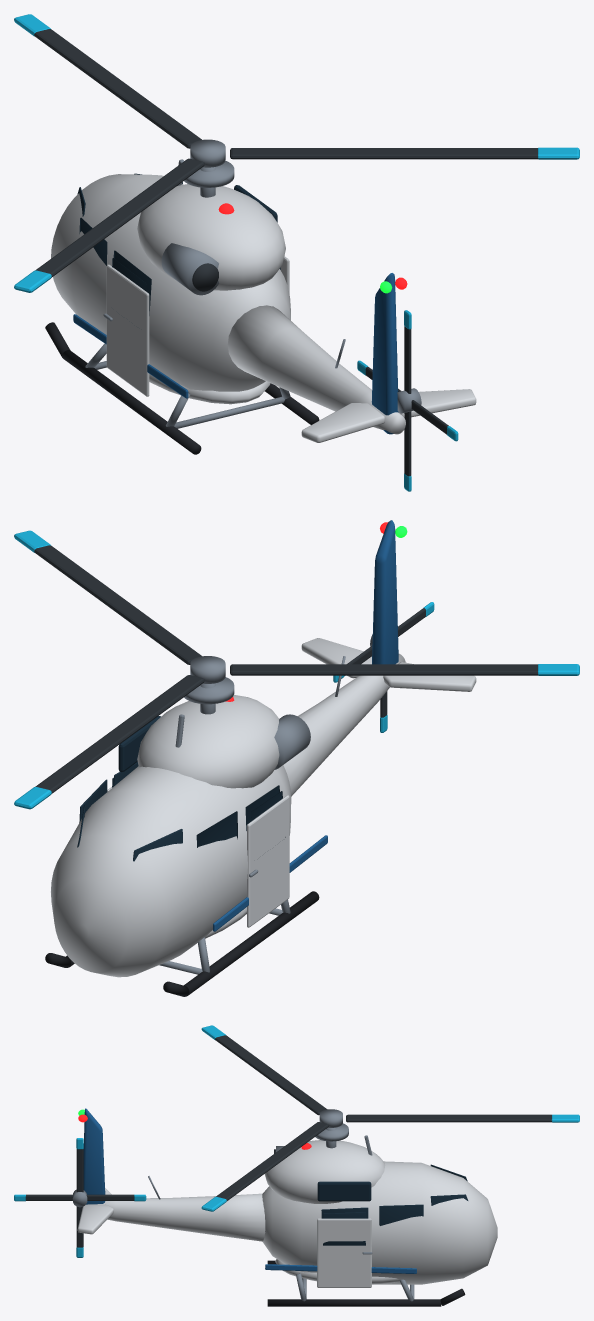
File: helicopter.glb
3 views of the same model, one above another, from view 1: azimuth 30°, elevation 25°; view 2: azimuth 150°, elevation 25°; view 3: azimuth 270°, elevation 25° (orthographic). The views are drawn at different scales.
Parts seen in each view (by area): view 1: Cabin_Fuselage, Engine_Cowling, Tail_Boom, R_Cabin_Door, MainRotor_Blade_3, MainRotor_Blade_1, MainRotor_Blade_2, Vertical_Tail, Tailplane_R, R_Skid, Turbine_Exhaust, Belly_Fairing (+6 smaller); view 2: Cabin_Fuselage, Engine_Cowling, Tail_Boom, R_Cabin_Door, MainRotor_Blade_2, Vertical_Tail, MainRotor_Blade_3, MainRotor_Blade_1, R_Skid, Tailplane_R, Turbine_Exhaust, Tailplane_L (+5 smaller); view 3: Cabin_Fuselage, Tail_Boom, Engine_Cowling, L_Cabin_Door, MainRotor_Blade_1, Vertical_Tail, MainRotor_Blade_2, MainRotor_Blade_3, L_Skid, Engine_Intake, Tailplane_L, L_Pilot_Window (+5 smaller).
Part boxes in pixels (x1,y1,x2,y2): Cabin_Fuselage: (51,174,290,391); Engine_Cowling: (137,184,285,290); Tail_Boom: (227,305,405,434); R_Cabin_Door: (106,264,149,396); MainRotor_Blade_3: (230,148,537,159); MainRotor_Blade_1: (34,29,201,148); MainRotor_Blade_2: (35,158,204,277); Vertical_Tail: (371,273,398,434); Tailplane_R: (301,403,384,442); R_Skid: (62,350,201,454); Turbine_Exhaust: (161,243,218,295); Belly_Fairing: (149,374,270,404); Cabin_Fuselage: (51,765,291,977); Engine_Cowling: (137,695,279,788); Tail_Boom: (283,653,405,796); R_Cabin_Door: (247,795,289,927); MainRotor_Blade_2: (230,664,537,675); Vertical_Tail: (372,520,398,664); MainRotor_Blade_3: (34,545,201,664); MainRotor_Blade_1: (35,675,204,793); R_Skid: (184,891,319,996); Tailplane_R: (383,662,476,691); Turbine_Exhaust: (274,714,310,769); Tailplane_L: (301,638,371,678); Cabin_Fuselage: (262,1161,497,1284); Tail_Boom: (86,1193,265,1241); Engine_Cowling: (265,1140,385,1203); L_Cabin_Door: (317,1218,371,1287); MainRotor_Blade_1: (346,1114,551,1122); Vertical_Tail: (83,1108,105,1204); MainRotor_Blade_2: (215,1035,327,1115); MainRotor_Blade_3: (216,1122,328,1201); L_Skid: (267,1299,441,1306); Engine_Intake: (317,1181,371,1201); Tailplane_L: (77,1204,113,1234); L_Pilot_Window: (379,1204,423,1225).
Size of the model in its own units: 8.91 by 4.02 by 11.56.
